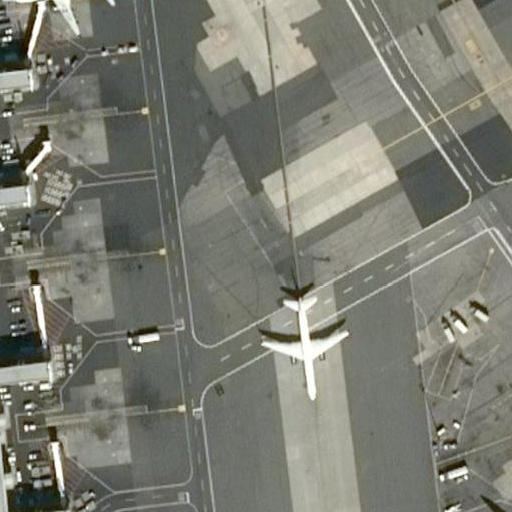Aircraft: (253, 286, 348, 397), (4, 0, 121, 37), (442, 497, 512, 512)
